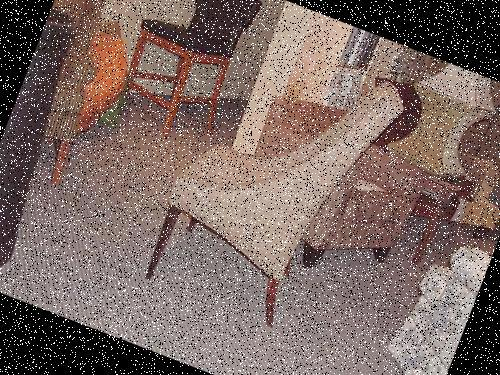Silla: (139, 23, 408, 343), (219, 88, 431, 291), (0, 0, 138, 188), (107, 0, 265, 151), (370, 229, 494, 374)
